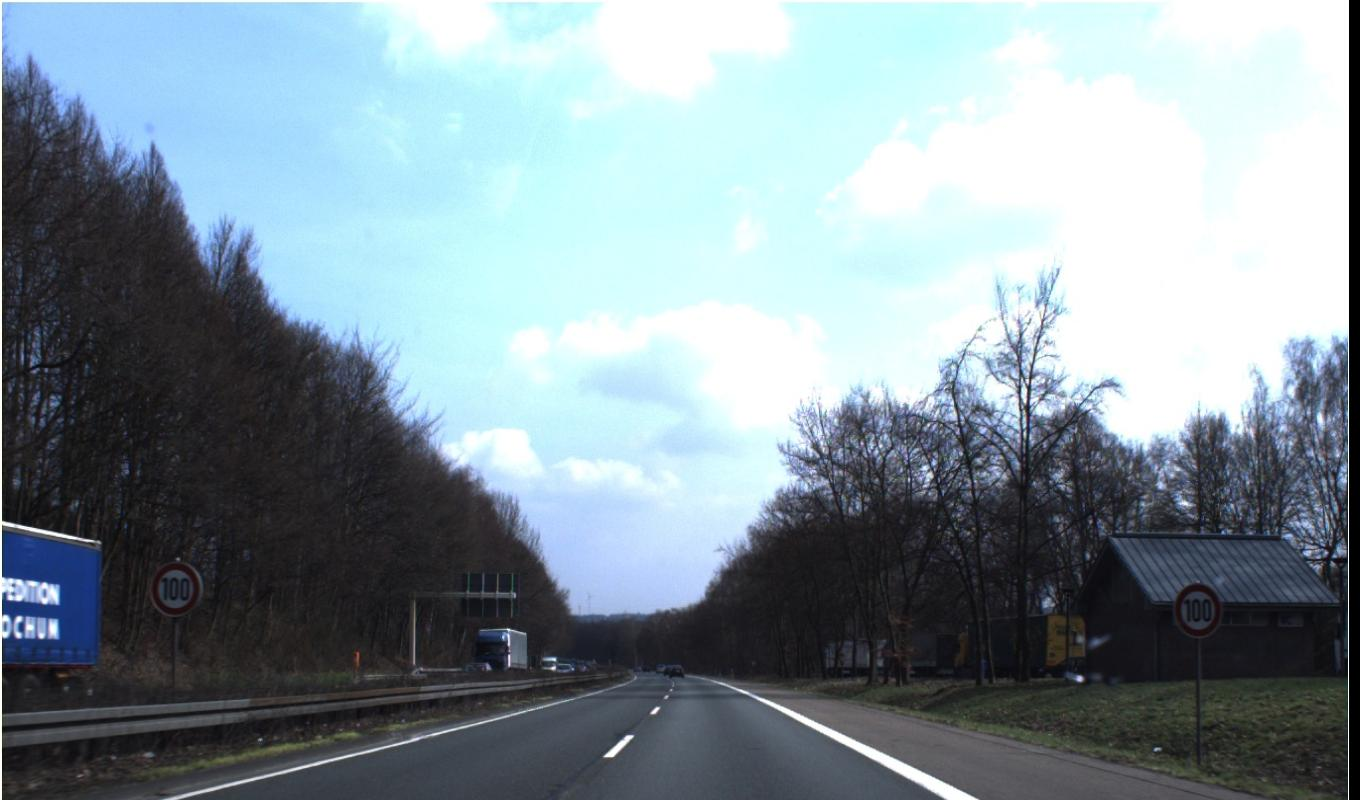speed limit 100: (149, 559, 1223, 639)
